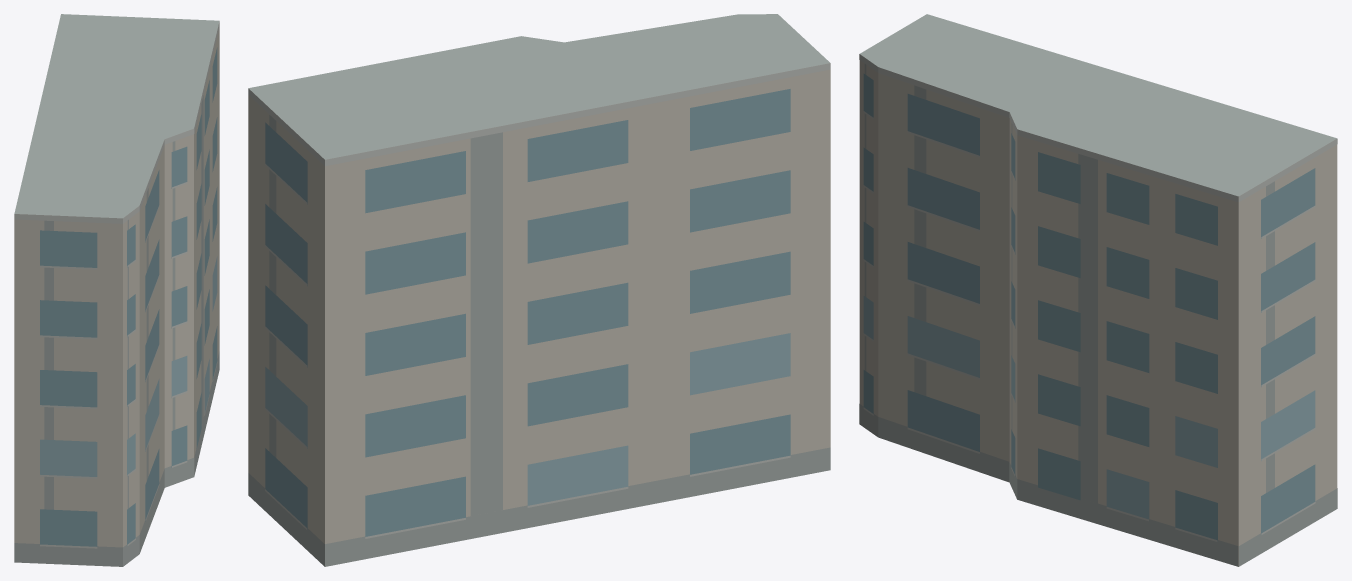
Rendered from residential-95c7fede-6329-4678-9356-360f93013509.glb.
The picture shows the model from 3 angles, left to right: view 1: azimuth 30°, elevation 25°; view 2: azimuth 150°, elevation 25°; view 3: azimuth 270°, elevation 25°; orthographic projection. The views are drawn at different scales.
Visible parts, largest first — view 1: residential-95c7fede-6329-4678-9356-360f93013509.tmp; view 2: residential-95c7fede-6329-4678-9356-360f93013509.tmp; view 3: residential-95c7fede-6329-4678-9356-360f93013509.tmp.
Boxes of the visible parts, x1,y1,x2,y2 form: residential-95c7fede-6329-4678-9356-360f93013509.tmp: (14, 14, 219, 566); residential-95c7fede-6329-4678-9356-360f93013509.tmp: (248, 14, 830, 566); residential-95c7fede-6329-4678-9356-360f93013509.tmp: (859, 14, 1337, 566).
Bounding box in the file's own units: 16.12 × 15.25 × 17.84.
